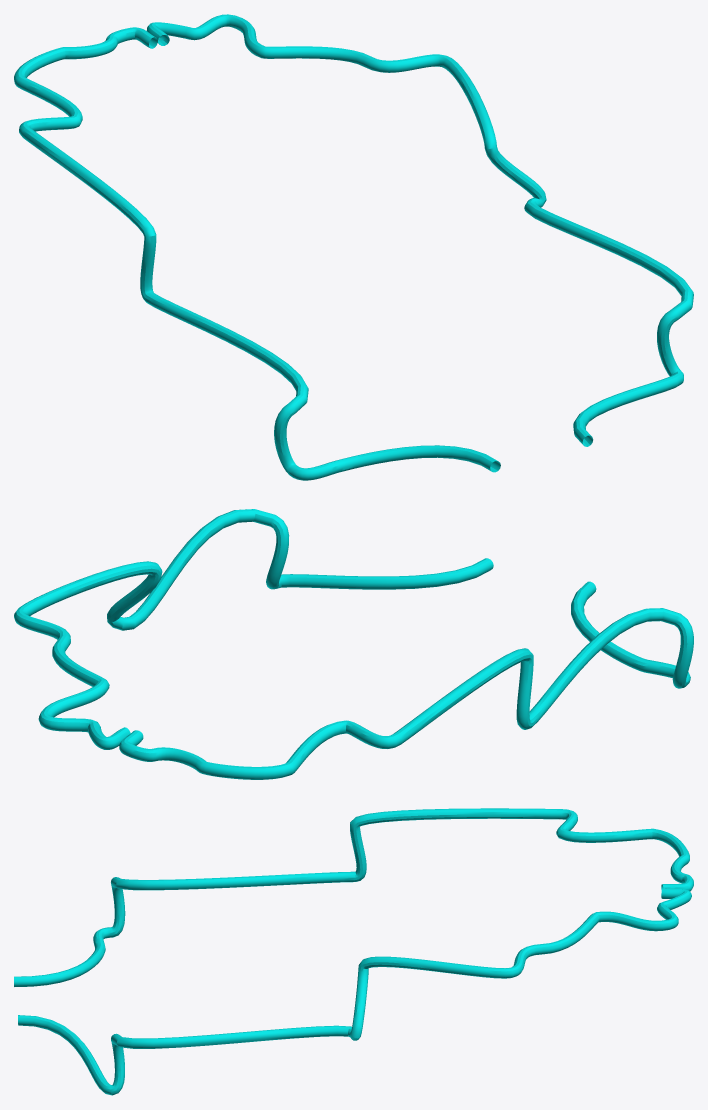
File: Cure_Wires.fbx
3 views of the same model, one above another, from view 1: azimuth 30°, elevation 25°; view 2: azimuth 150°, elevation 25°; view 3: azimuth 270°, elevation 25° (orthographic). The views are drawn at different scales.
Visible parts, largest first — view 1: Wires; view 2: Wires; view 3: Wires.
Boxes of the visible parts, x1,y1,x2,y2 form: Wires: (14,14,693,480); Wires: (14,509,693,779); Wires: (14,808,693,1095).
Bounding box in the file's own units: 4025 × 1388 × 6533.
